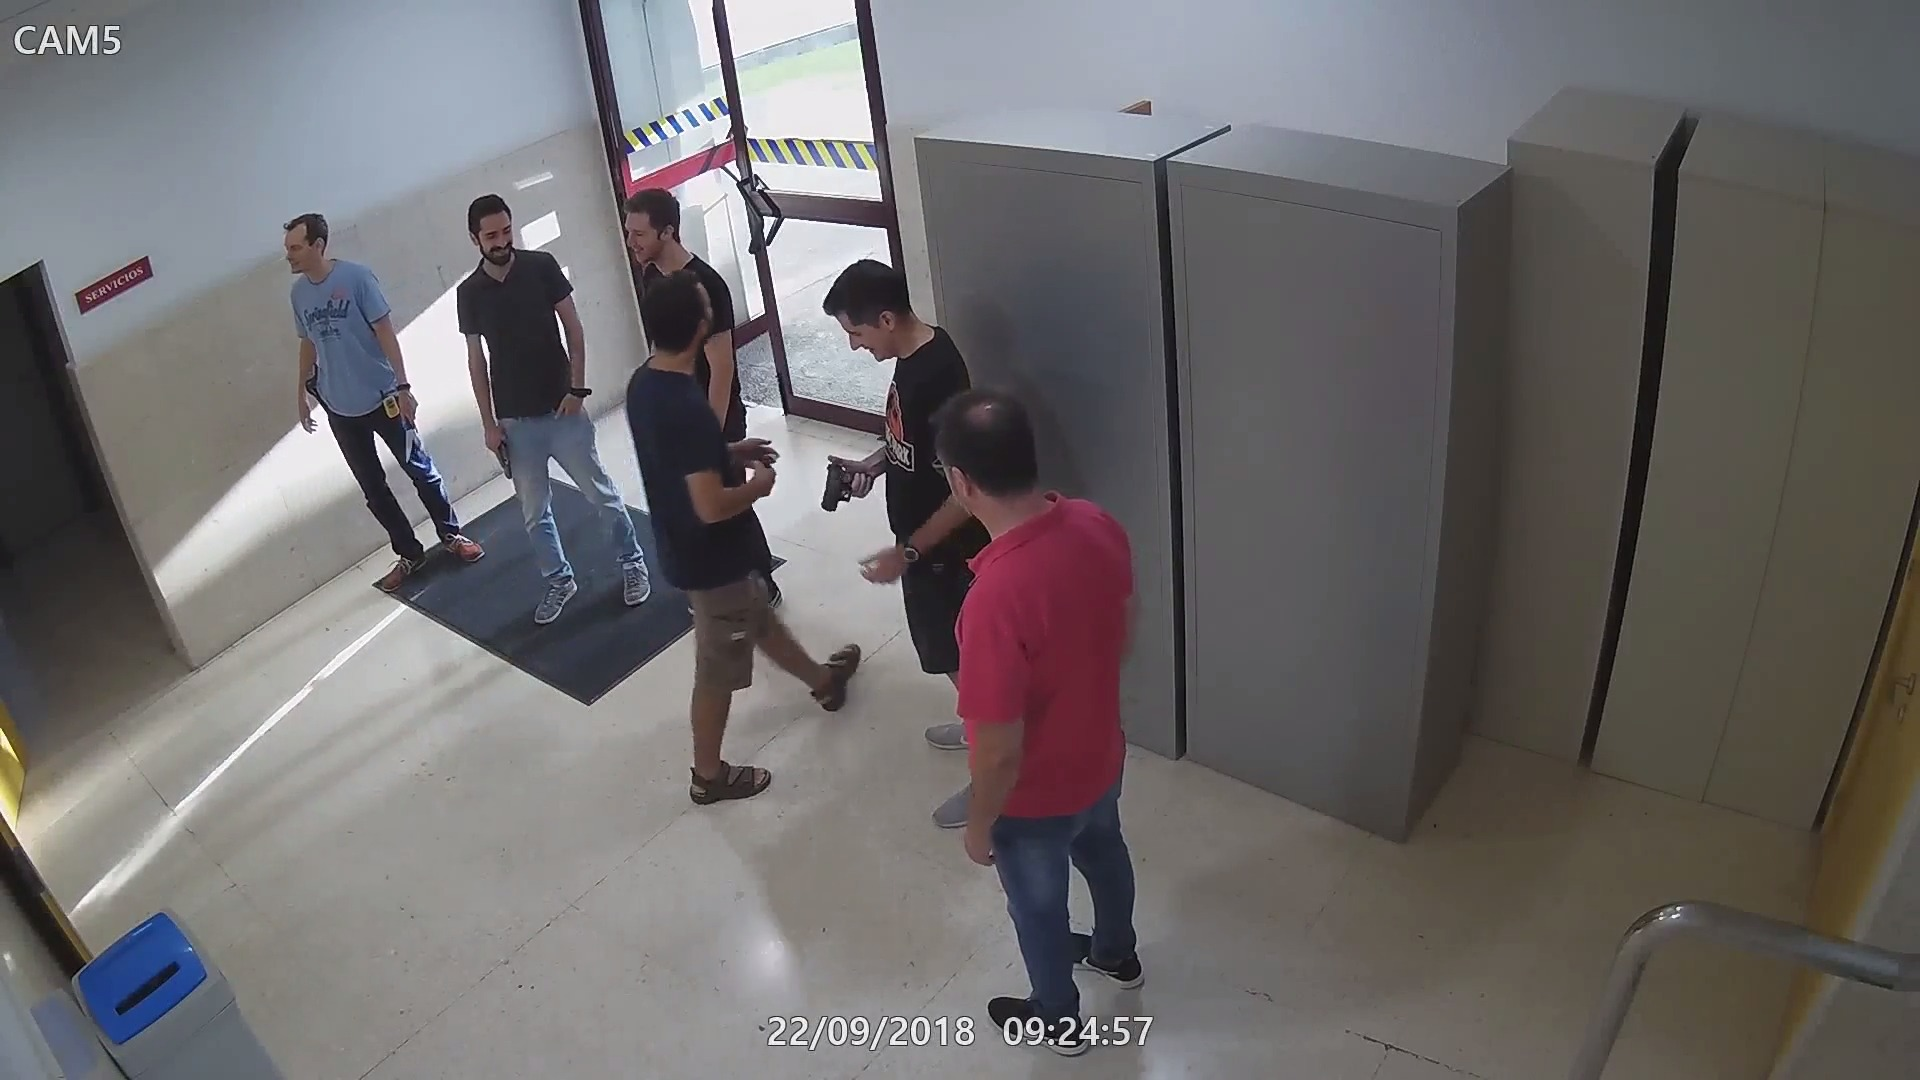Handgun: (810, 460, 884, 516), (477, 426, 526, 477), (737, 440, 775, 501), (301, 357, 326, 411)
Knife: (396, 378, 419, 473)
